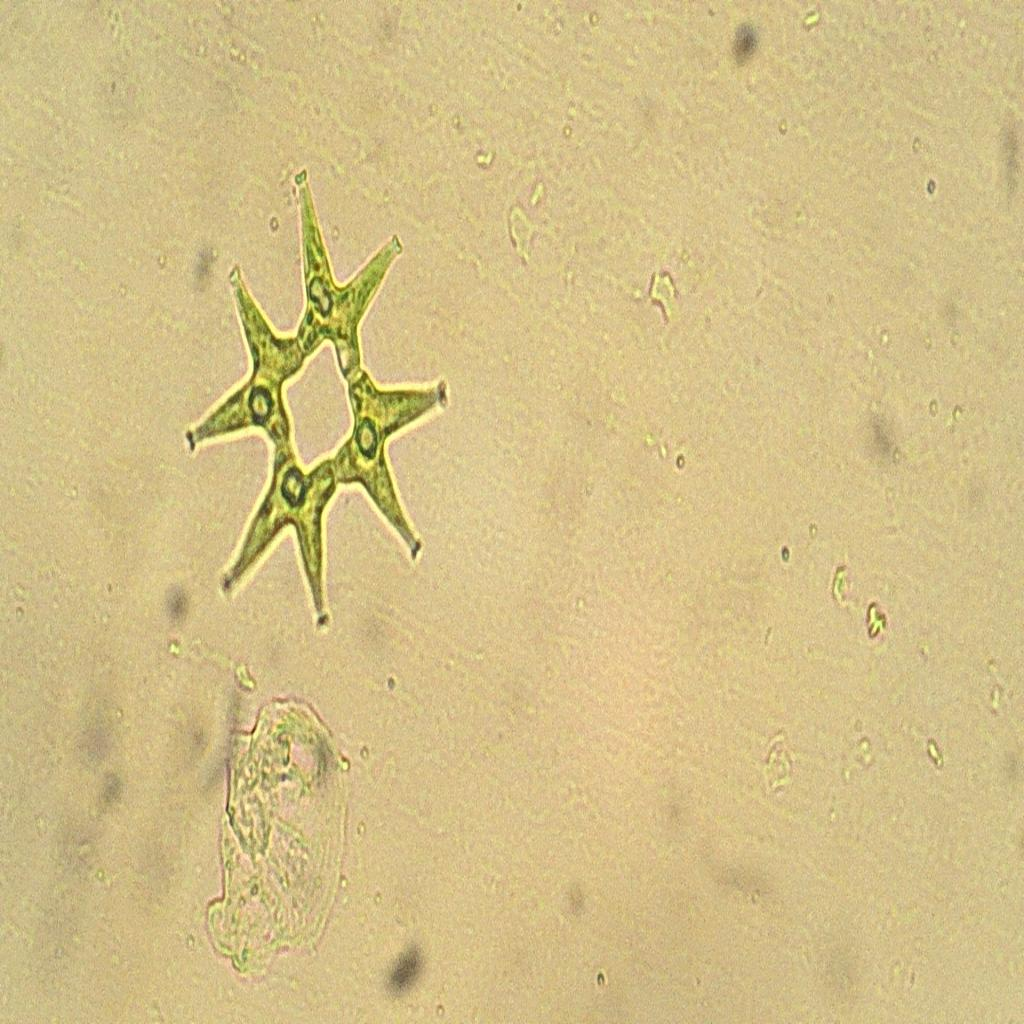Pediastrum_10: (172, 134, 456, 678)
